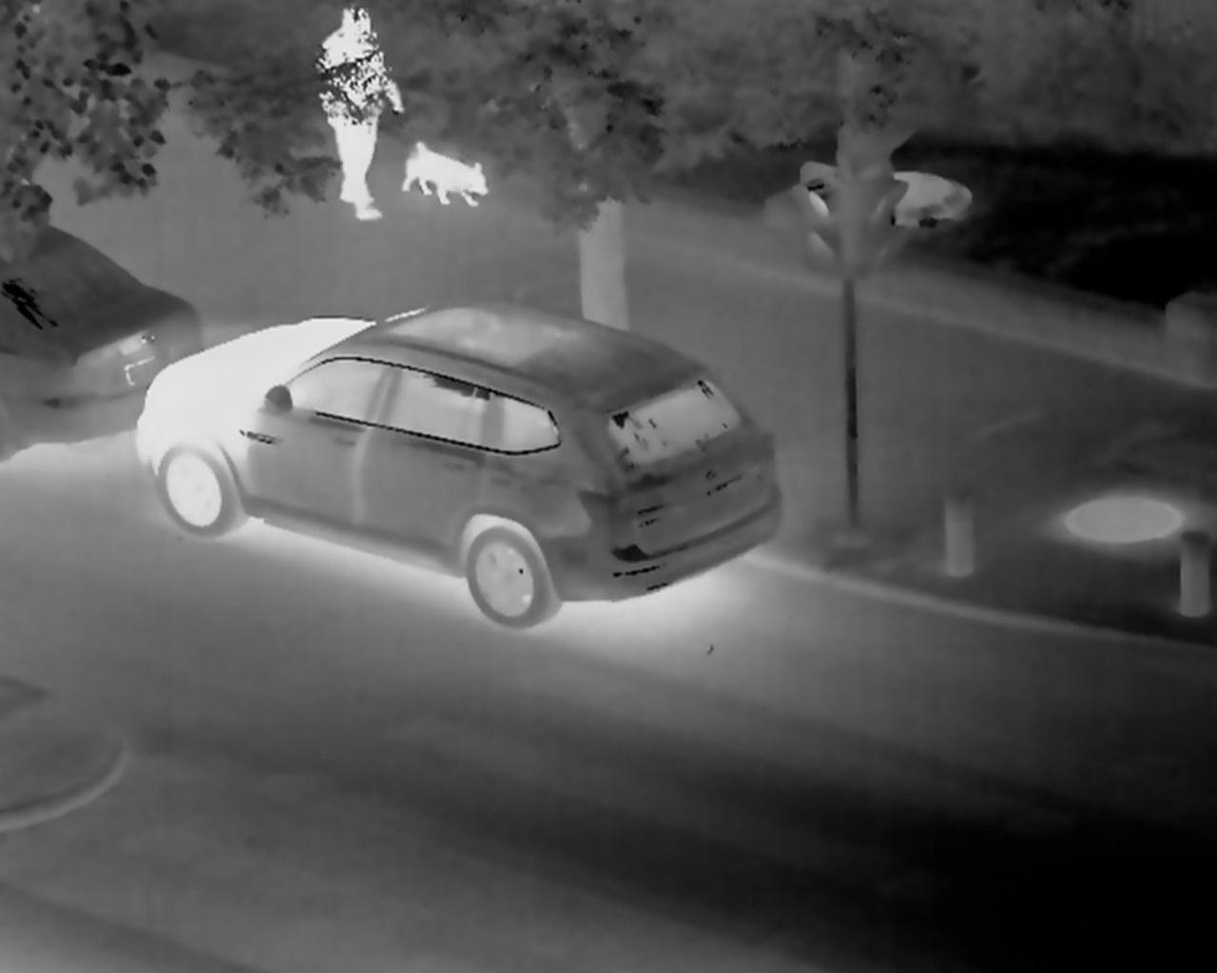person: (316, 5, 398, 226)
